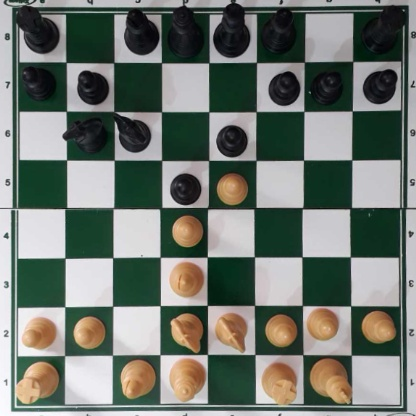black-bishop: (260, 7, 297, 54), (123, 5, 159, 53)
black-king: (215, 1, 251, 59)
black-knight: (66, 115, 106, 153), (112, 112, 150, 150)
black-pawn: (19, 65, 56, 101), (362, 67, 397, 104), (215, 120, 249, 156), (311, 67, 343, 103), (76, 67, 107, 104), (170, 171, 202, 205), (268, 71, 299, 105)
black-queen: (166, 5, 205, 56)
black-rook: (14, 3, 61, 55), (360, 6, 403, 53)
white-bishop: (119, 358, 154, 400), (169, 259, 204, 296)
white-king: (310, 357, 351, 405)
white-knight: (214, 312, 248, 351), (170, 314, 204, 352)
white-pawn: (19, 315, 58, 349), (360, 309, 396, 342), (72, 315, 106, 348), (307, 306, 339, 341), (215, 171, 249, 203), (171, 212, 203, 246), (265, 313, 297, 346)
white-queen: (169, 355, 204, 405)
white-rook: (14, 360, 59, 403), (261, 363, 298, 404)
